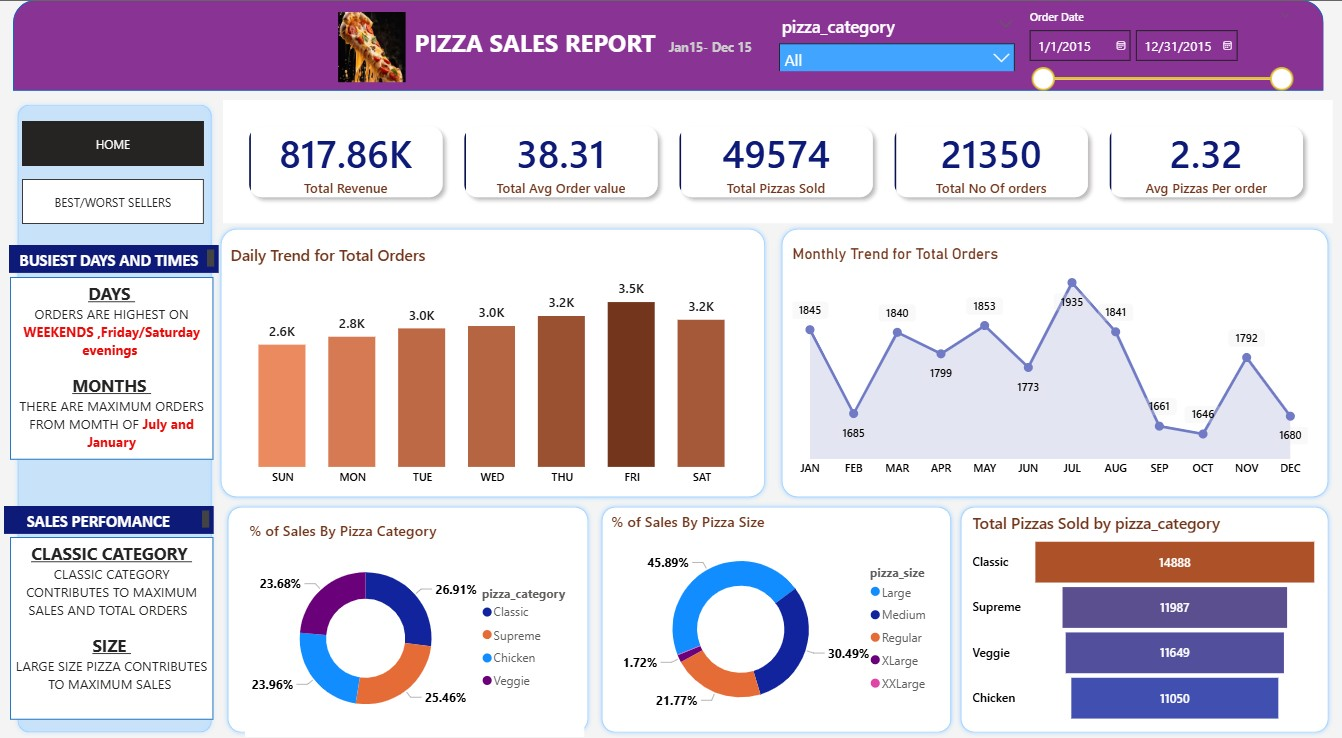

This screenshot's page, from the dashboard's own definition file:
{"tool":"powerbi","page":{"name":"HOME","canvas":[1500,820],"ordinal":0},"visuals":[{"type":"shape","box":[21.8,111.6,226,707.8],"z":0},{"type":"cardVisual","fields":{"Data":["pizza_sales_excel_file.Total Revenue","pizza_sales_excel_file.Total Avg Order value","pizza_sales_excel_file.Total Pizzas Sold","pizza_sales_excel_file.Total No Of orders","pizza_sales_excel_file.Avg Pizzas Per order"]},"box":[255.9,111.6,1233.2,137.5],"z":1000},{"type":"shape","box":[21.8,0,1456.4,100.7],"z":2000},{"type":"textbox","box":[462.8,23.1,408.3,53.1],"z":3000},{"type":"image","box":[314.4,13.6,212.3,77.6],"z":4000},{"type":"shape","box":[247.7,249.1,615.2,309],"z":5000},{"type":"columnChart","title":"Daily Trend for Total Orders ","fields":{"Category":["pizza_sales_excel_file.Order Day"],"Y":["pizza_sales_excel_file.Total No Of orders"]},"box":[258.6,270.9,592.1,277.7],"z":6000},{"type":"textbox","box":[17.7,272.2,232.8,31.3],"z":7000},{"type":"shape","box":[871.1,249.1,618,309],"z":8000},{"type":"areaChart","title":"Monthly Trend for Total Orders ","fields":{"Y":["pizza_sales_excel_file.Total No Of orders"],"Category":["pizza_sales_excel_file.Order MONTH"]},"box":[883.4,272.2,582.6,266.8],"z":9000},{"type":"shape","box":[255.9,558.1,411.1,261.3],"z":10000},{"type":"shape","box":[671.1,558.1,398.8,261.3],"z":11000},{"type":"shape","box":[1069.9,558.1,419.2,261.3],"z":12000},{"type":"donutChart","title":"% of Sales By Pizza Size","fields":{"Y":["pizza_sales_excel_file.Total Revenue"],"Category":["pizza_sales_excel_file.pizza_size"]},"box":[681.9,569,377,239.6],"z":13000},{"type":"donutChart","title":"% of Sales By Pizza Category ","fields":{"Category":["pizza_sales_excel_file.pizza_category"],"Y":["pizza_sales_excel_file.Total Revenue"]},"box":[279.5,579,377,239.6],"z":14000},{"type":"funnel","fields":{"Category":["pizza_sales_excel_file.pizza_category"],"Y":["pizza_sales_excel_file.Total Pizzas Sold"]},"box":[1083.5,569,394.7,239.6],"z":15000},{"type":"textbox","box":[19.1,307.6,226,202.8],"z":16000},{"type":"textbox","box":[12.3,562.2,232.8,31.3],"z":17000},{"type":"textbox","box":[19.1,596.2,226,202.8],"z":18000},{"type":"slicer","fields":{"Values":["pizza_sales_excel_file.pizza_category"]},"box":[863,10.9,281.8,68.1],"z":19000},{"type":"slicer","fields":{"Values":["pizza_sales_excel_file.order_date"]},"box":[1139.3,5.4,314.4,106.2],"z":20000},{"type":"pageNavigator","box":[32.7,134.8,202.8,50.4],"z":21000},{"type":"pageNavigator","box":[32.7,198.7,202.8,50.4],"z":22000}]}

Visuals, with their boxes in screenshot pixels (x1, y1, x2, y2), scaled from the page's 1500x820 canvas onto the 1342x738 screenshot:
shape: Rect(20, 100, 222, 737)
cardVisual - pizza_sales_excel_file.Total Revenue x pizza_sales_excel_file.Total Avg Order value: Rect(229, 100, 1332, 224)
shape: Rect(20, 0, 1322, 91)
textbox: Rect(414, 21, 779, 69)
image: Rect(281, 12, 471, 82)
shape: Rect(222, 224, 772, 502)
"Daily Trend for Total Orders " columnChart: Rect(231, 244, 761, 494)
textbox: Rect(16, 245, 224, 273)
shape: Rect(779, 224, 1332, 502)
"Monthly Trend for Total Orders " areaChart: Rect(790, 245, 1312, 485)
shape: Rect(229, 502, 597, 737)
shape: Rect(600, 502, 957, 737)
shape: Rect(957, 502, 1332, 737)
"% of Sales By Pizza Size" donutChart: Rect(610, 512, 947, 728)
"% of Sales By Pizza Category " donutChart: Rect(250, 521, 587, 737)
funnel - pizza_sales_excel_file.pizza_category x pizza_sales_excel_file.Total Pizzas Sold: Rect(969, 512, 1322, 728)
textbox: Rect(17, 277, 219, 459)
textbox: Rect(11, 506, 219, 534)
textbox: Rect(17, 537, 219, 719)
slicer - pizza_sales_excel_file.pizza_category: Rect(772, 10, 1024, 71)
slicer - pizza_sales_excel_file.order_date: Rect(1019, 5, 1301, 100)
pageNavigator: Rect(29, 121, 211, 167)
pageNavigator: Rect(29, 179, 211, 224)
